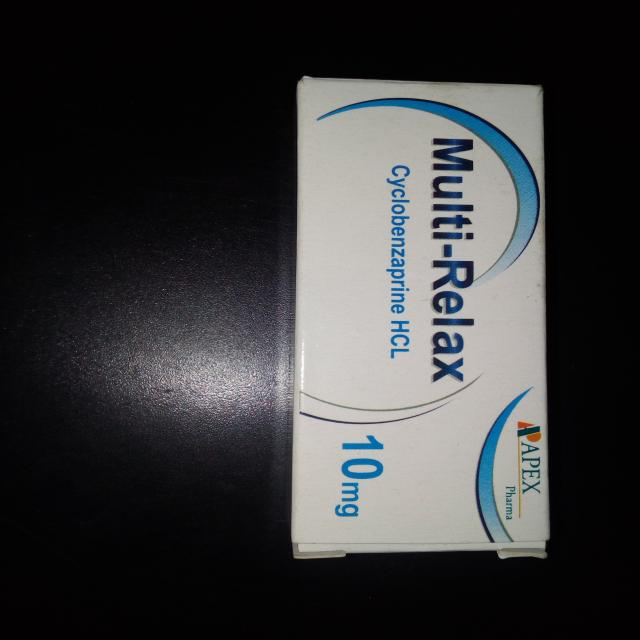Medicine: (286, 71, 565, 568)
